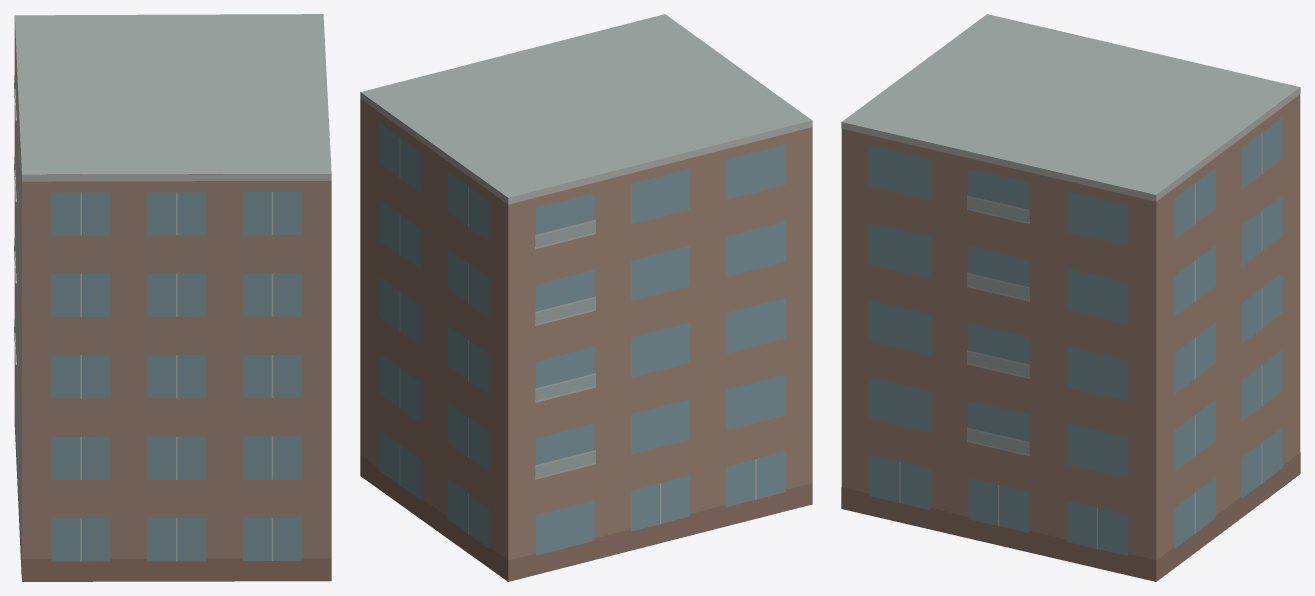
Rendered from survey-upis-32649398.glb.
3 renders of one model, left to right at view 1: azimuth 30°, elevation 25°; view 2: azimuth 150°, elevation 25°; view 3: azimuth 270°, elevation 25°, orthographic. The views are drawn at different scales.
Visible parts, largest first — view 1: survey-upis-32649398.tmp; view 2: survey-upis-32649398.tmp; view 3: survey-upis-32649398.tmp.
Part boxes in pixels (x1,y1,x2,y2): survey-upis-32649398.tmp: [14, 14, 331, 581]; survey-upis-32649398.tmp: [360, 14, 812, 581]; survey-upis-32649398.tmp: [841, 14, 1300, 581].
Size of the model in its own units: 14.16 by 14.1 by 15.17.
